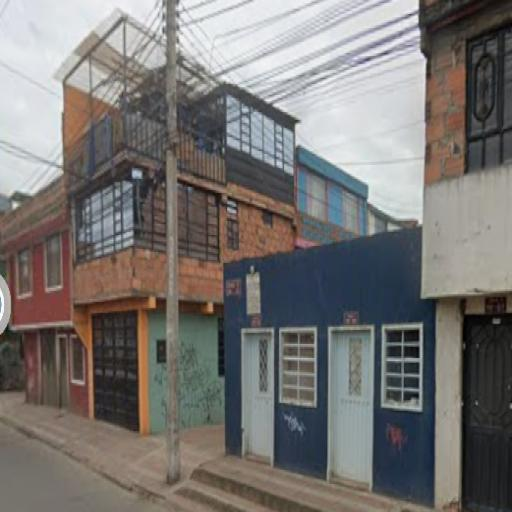poste: (161, 0, 182, 489)
